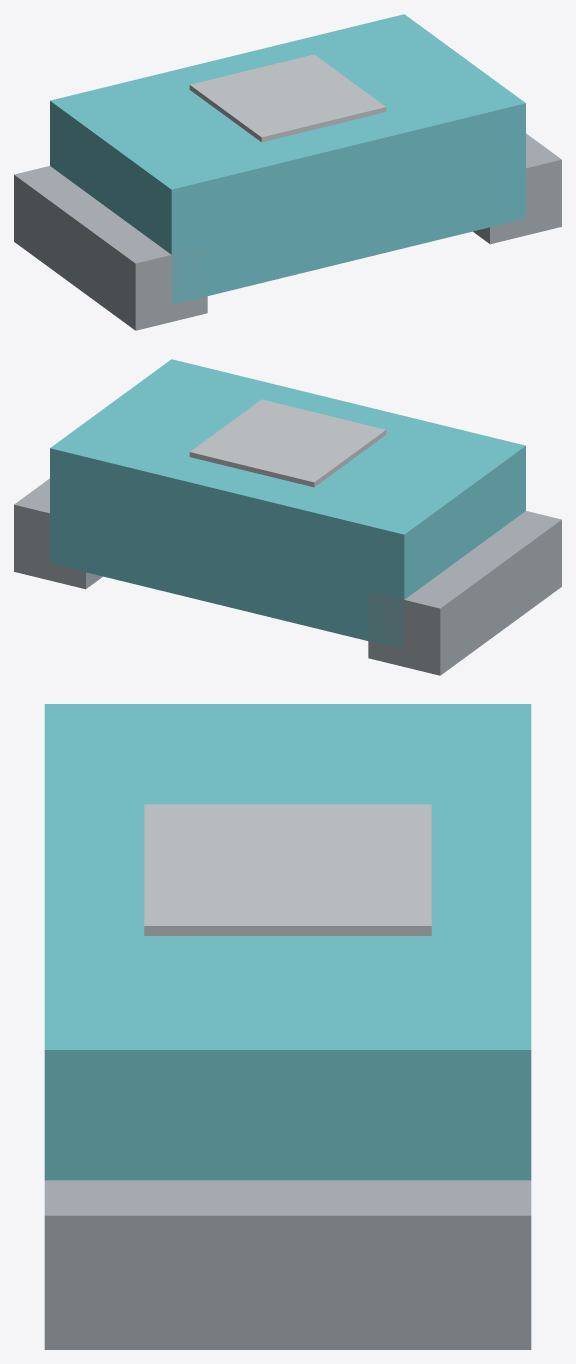
File: 139_L113_LED7.glb
3 renders of one model, top to bottom at view 1: azimuth 30°, elevation 25°; view 2: azimuth 150°, elevation 25°; view 3: azimuth 270°, elevation 25°, orthographic. The views are drawn at different scales.
Visible parts, largest first — view 1: part0000__PSMAT__Signal_Cyan, part0001__PSMAT__Tin_Solder, part0003__PSMAT__Silkscreen_White, part0002__PSMAT__Tin_Solder; view 2: part0000__PSMAT__Signal_Cyan, part0001__PSMAT__Tin_Solder, part0003__PSMAT__Silkscreen_White, part0002__PSMAT__Tin_Solder; view 3: part0000__PSMAT__Signal_Cyan, part0002__PSMAT__Tin_Solder, part0003__PSMAT__Silkscreen_White.
Part boxes in pixels (x1,y1,x2,y2): part0000__PSMAT__Signal_Cyan: (50,14,525,304); part0001__PSMAT__Tin_Solder: (14,166,207,330); part0003__PSMAT__Silkscreen_White: (189,54,386,142); part0002__PSMAT__Tin_Solder: (473,133,561,244); part0000__PSMAT__Signal_Cyan: (50,359,525,649); part0001__PSMAT__Tin_Solder: (368,511,561,675); part0003__PSMAT__Silkscreen_White: (189,399,386,487); part0002__PSMAT__Tin_Solder: (14,478,102,589); part0000__PSMAT__Signal_Cyan: (44,704,531,1180); part0002__PSMAT__Tin_Solder: (44,1180,531,1349); part0003__PSMAT__Silkscreen_White: (144,804,431,935).
Size of the model in its own units: 0.00445 by 0.00138 by 0.0022.
